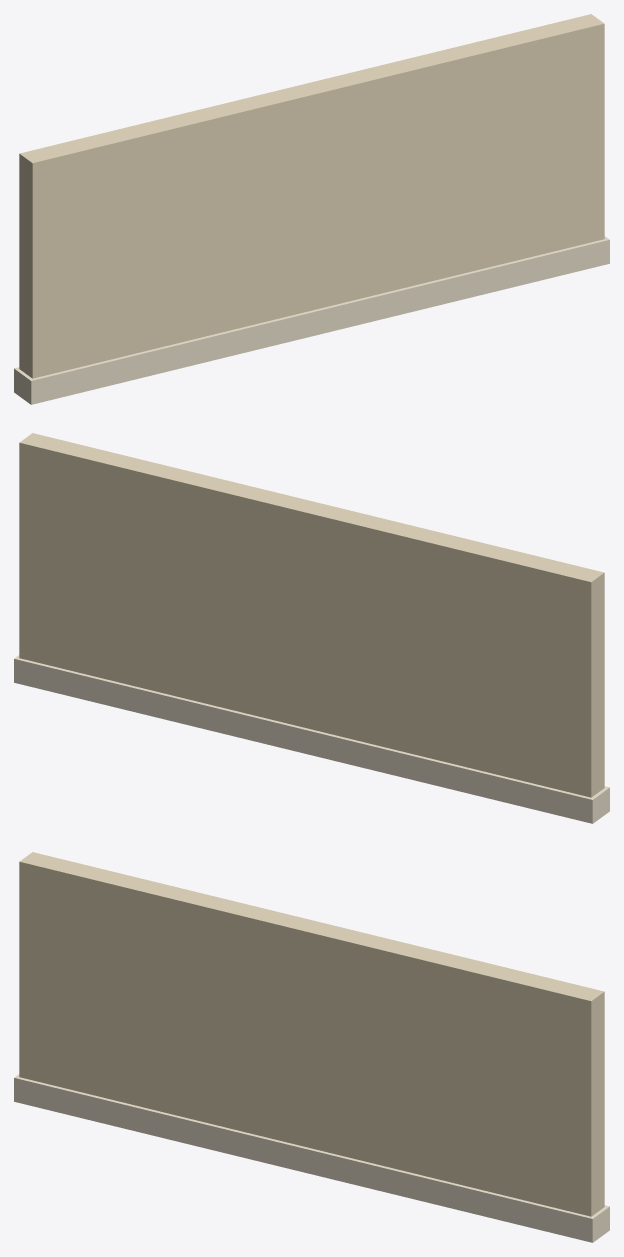
The model's file is Mesh_Wall_Full_5M.fbx.
3 renders of one model, top to bottom at view 1: azimuth 30°, elevation 25°; view 2: azimuth 150°, elevation 25°; view 3: azimuth 330°, elevation 25°, orthographic.
Parts seen in each view (by area): view 1: Wall_Centre_room_mid_5M; view 2: Wall_Centre_room_mid_5M; view 3: Wall_Centre_room_mid_5M.
Boxes of the visible parts, <box> form: Wall_Centre_room_mid_5M: <box>14,14,609,404</box>; Wall_Centre_room_mid_5M: <box>14,433,609,823</box>; Wall_Centre_room_mid_5M: <box>14,852,609,1242</box>.
Bounding box in the file's own units: 506 × 200 × 26.
